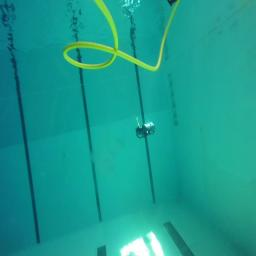Side: (136, 121, 156, 138)
